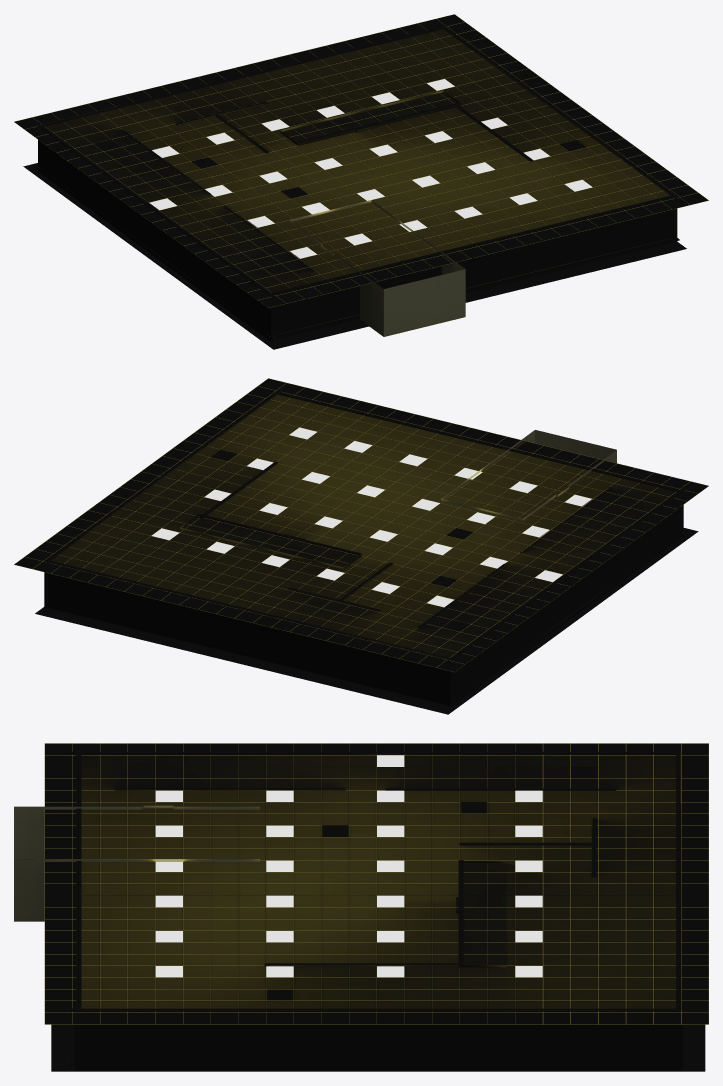
3 renders of one model, top to bottom at view 1: azimuth 30°, elevation 25°; view 2: azimuth 150°, elevation 25°; view 3: azimuth 270°, elevation 25°, orthographic. The views are drawn at different scales.
Parts seen in each view (by area): view 1: Ceiling_6_12, BackWall_Double_BR.028_3_8, Air_Vent.005_5_2, Piece1_2_14, Carpet_v1.001_4_10; view 2: Ceiling_6_12, BackWall_Double_BR.028_3_8, Air_Vent.005_5_2, Carpet_v1.001_4_10, Piece1_2_14; view 3: Ceiling_6_12, BackWall_Double_BR.028_3_8, Air_Vent.005_5_2, Piece1_2_14, Carpet_v1.001_4_10.
Part boxes in pixels (box(x1,y1,x2,y2)): Ceiling_6_12: box(14, 14, 708, 307); BackWall_Double_BR.028_3_8: box(37, 26, 679, 341); Air_Vent.005_5_2: box(15, 14, 708, 307); Piece1_2_14: box(289, 200, 465, 336); Carpet_v1.001_4_10: box(23, 163, 686, 349); Ceiling_6_12: box(14, 378, 708, 671); BackWall_Double_BR.028_3_8: box(44, 389, 686, 706); Air_Vent.005_5_2: box(14, 378, 708, 672); Carpet_v1.001_4_10: box(35, 528, 698, 714); Piece1_2_14: box(441, 430, 616, 520); Ceiling_6_12: box(45, 743, 708, 1024); BackWall_Double_BR.028_3_8: box(68, 751, 682, 1070); Air_Vent.005_5_2: box(44, 743, 708, 1024); Piece1_2_14: box(14, 805, 259, 921); Carpet_v1.001_4_10: box(51, 1024, 705, 1071).
Bounding box in the file's own units: 27.36 × 2.87 × 28.62.
12 materials, 9 textured.
